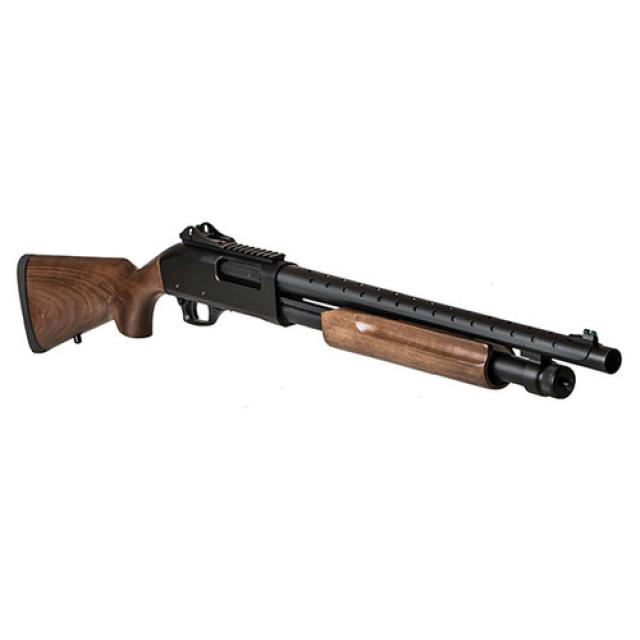ShotGun: (15, 224, 623, 402)
